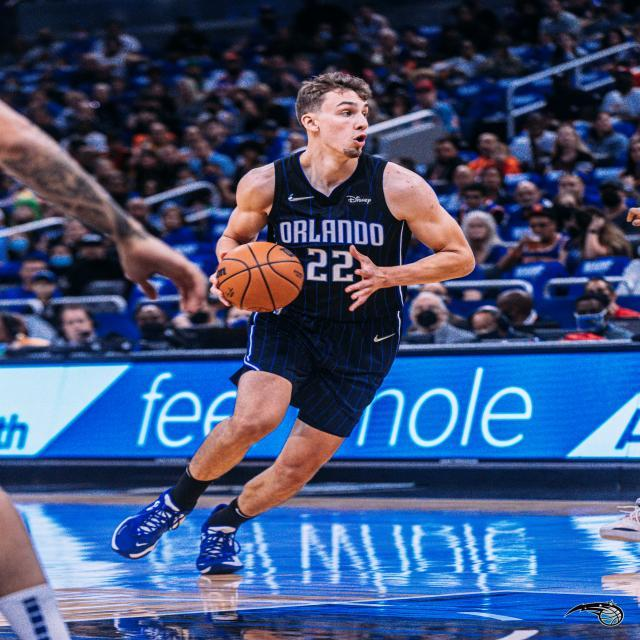rim: (220, 242, 300, 312)
